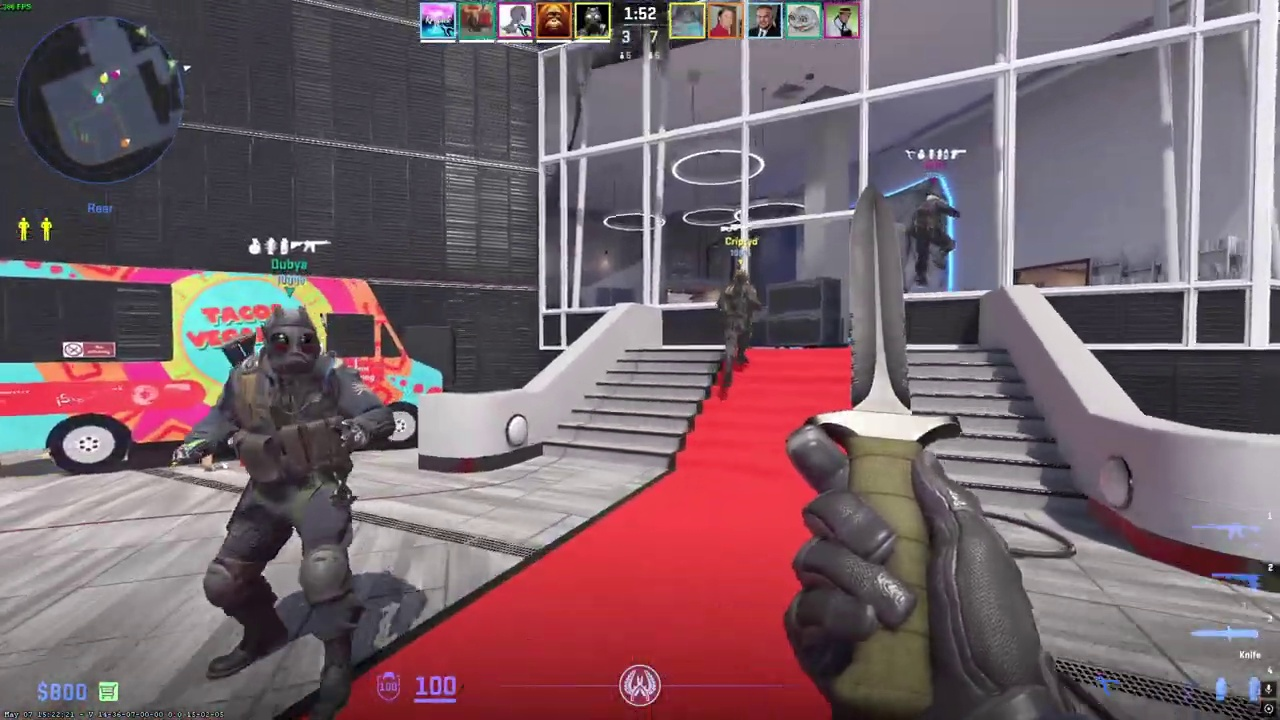CT: (197, 303, 386, 686), (910, 185, 957, 286), (723, 268, 759, 364)
